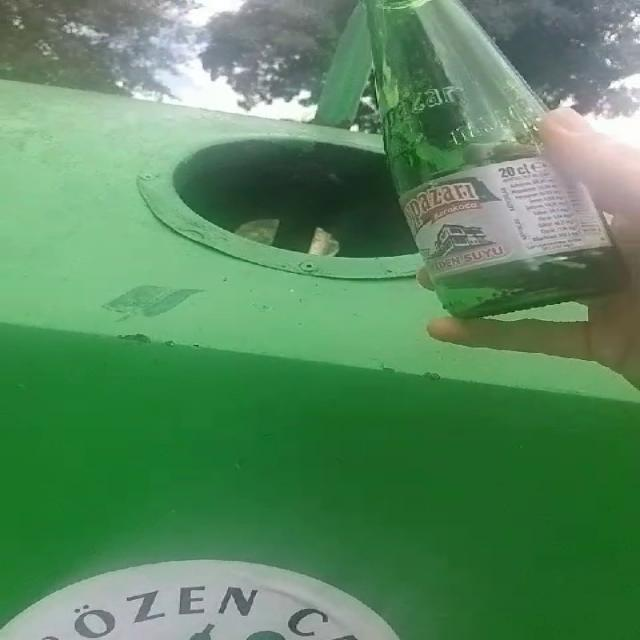Glass: (367, 0, 619, 317)
